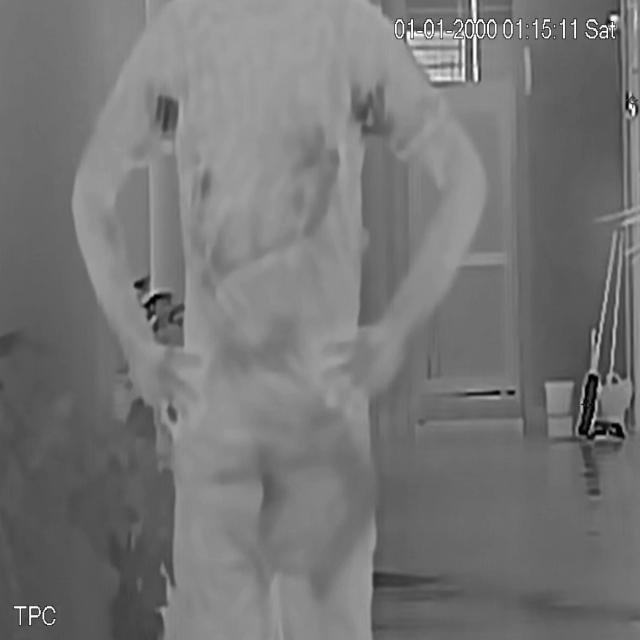Weapon: (305, 452, 394, 598)
